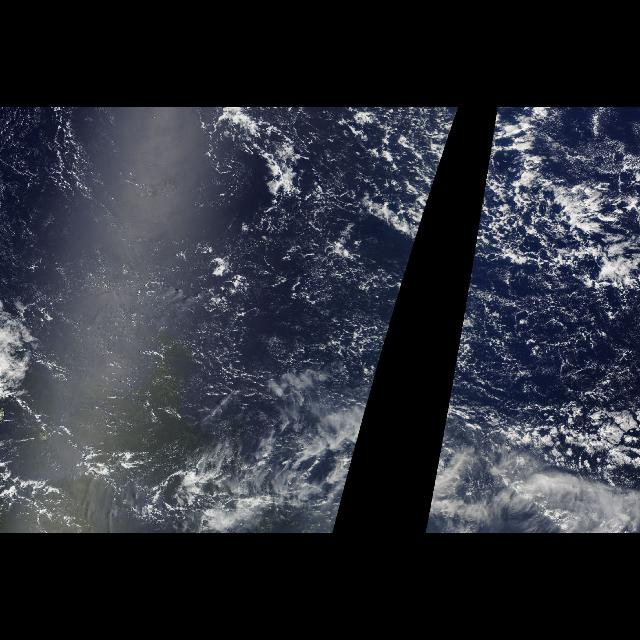Gravel: (235, 110, 459, 404), (448, 110, 640, 404)
